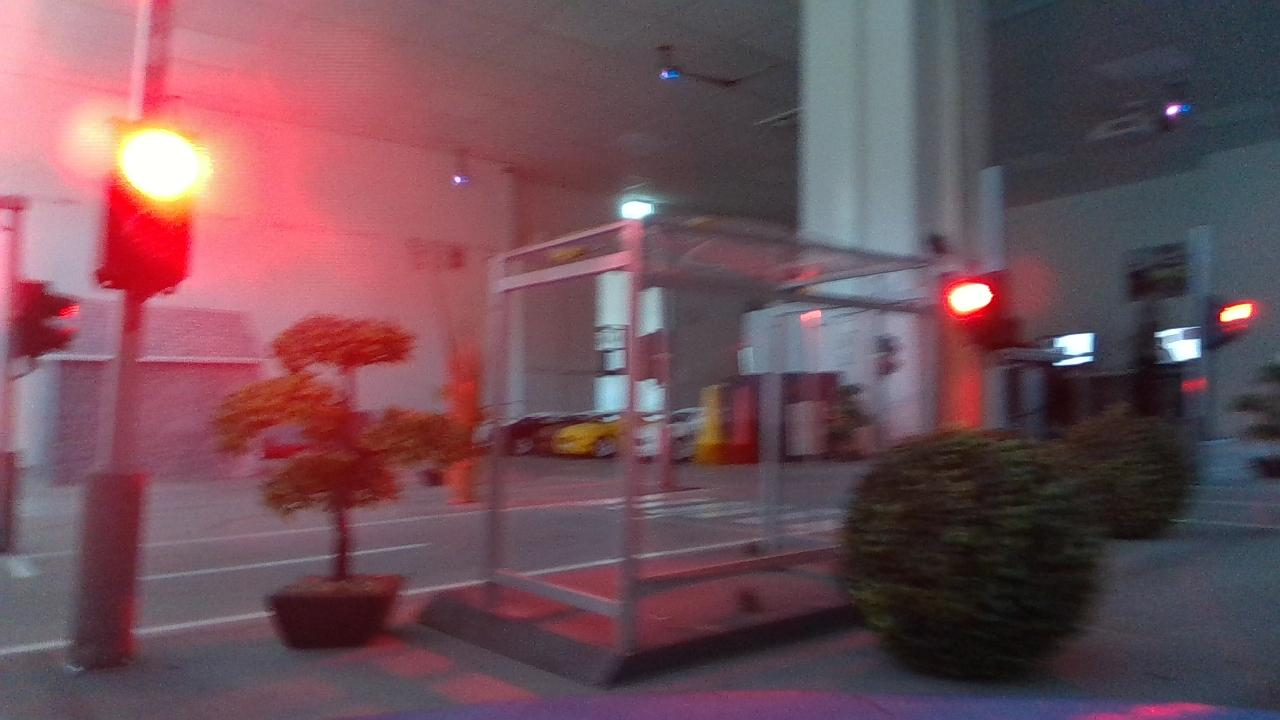traffic_light_red: (92, 94, 214, 315)
